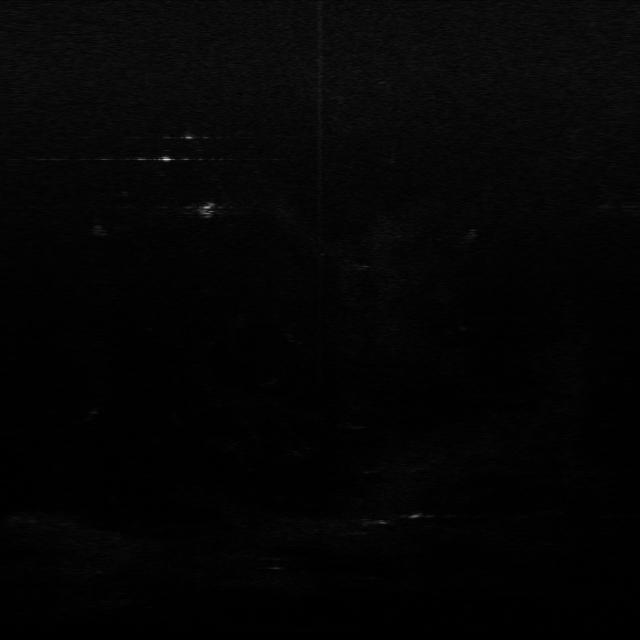rov: (197, 201, 216, 220)
